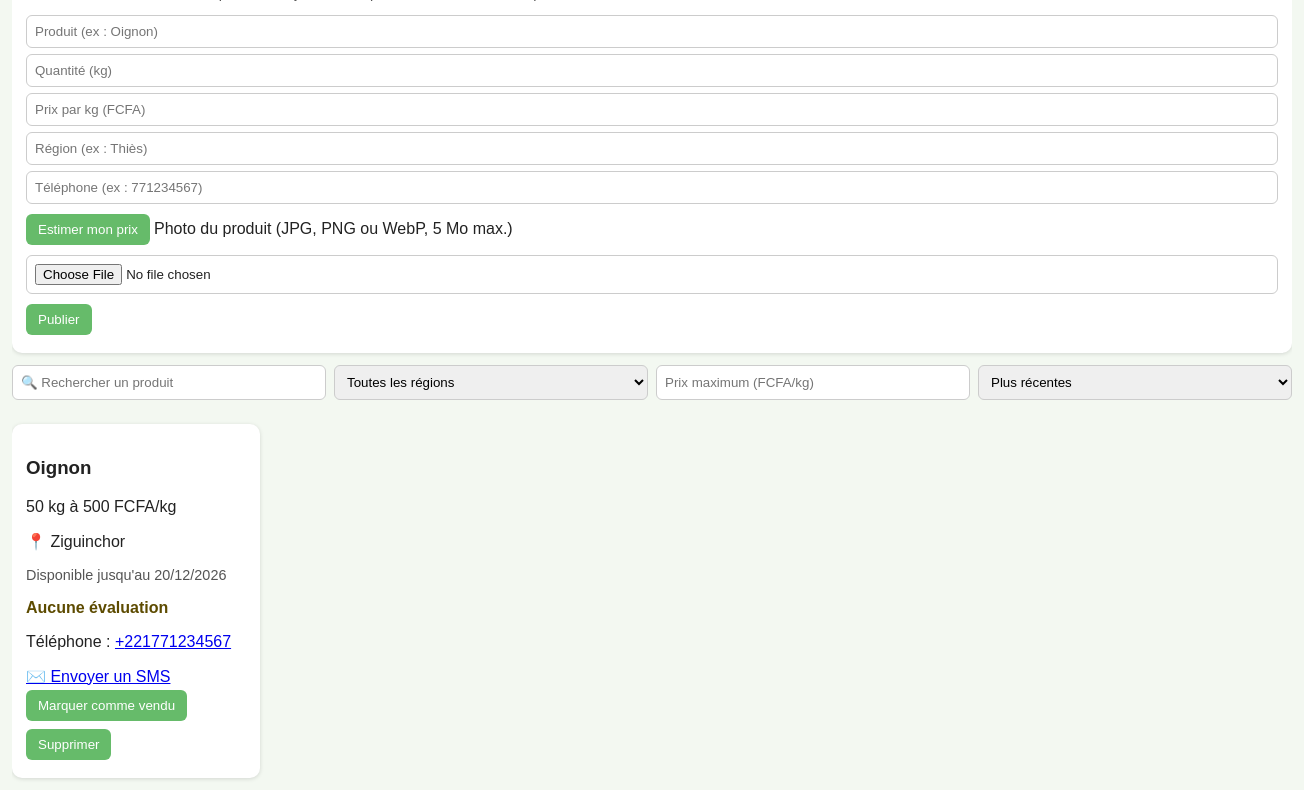
Annonces › marque l'annonce de l'agriculteur comme vendue et la retire des annonces publiques
(page scrolled)
Check: the heading "Oignon" is shown, box [26,457,92,478]
Click the button "Marquer comme vendu".
click(106, 705)  # box [26,690,187,721]
(page scrolled)
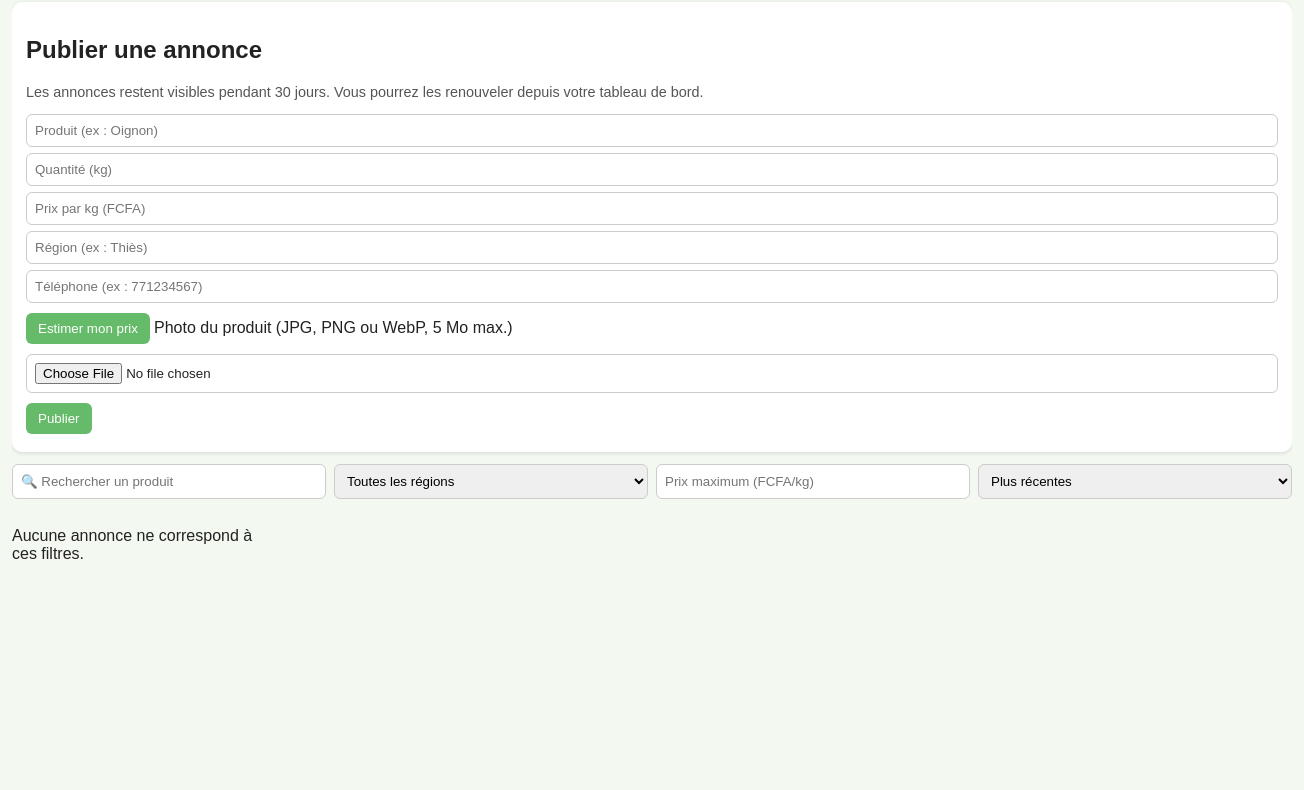
Check: the text "Aucune annonce ne correspond à ces filtres." is shown, box [12,527,260,563]
